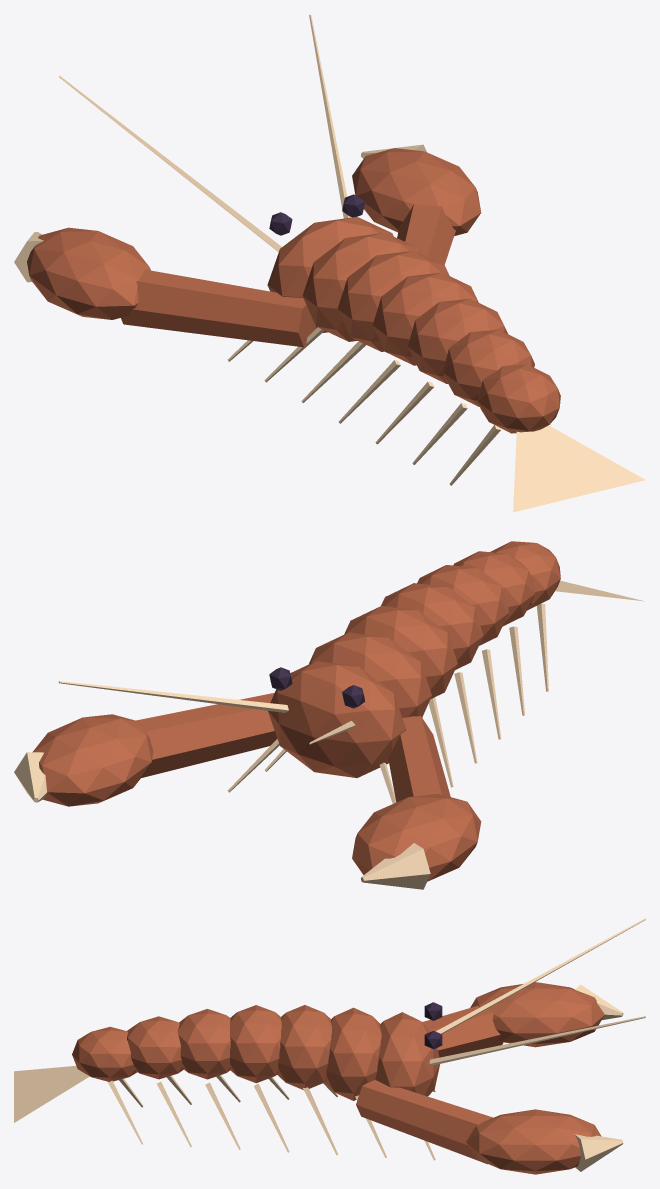
The model's file is Lobster.fbx.
The picture shows the model from 3 angles, top to bottom: view 1: azimuth 30°, elevation 25°; view 2: azimuth 150°, elevation 25°; view 3: azimuth 270°, elevation 25°; orthographic projection. The views are drawn at different scales.
Visible parts, largest first — view 1: ClawArm1, Claw1, Claw-1, Segment1, Segment6, Segment2, Segment3, Segment4, Segment5, Segment0, TailFan-1, TailFan1 (+4 smaller); view 2: Segment0, Claw-1, Claw1, ClawArm-1, Segment1, Segment2, Segment3, ClawArm1, Segment4, Segment5, Segment6, ClawTip1 (+7 smaller); view 3: Claw-1, Claw1, ClawArm-1, Segment1, Segment0, Segment2, Segment3, Segment4, Segment5, Segment6, ClawArm1, TailFan-1 (+6 smaller).
Boxes of the visible parts, x1,y1,x2,y2 form: ClawArm1: (121,269,315,347); Claw1: (27,227,150,319); Claw-1: (352,148,481,235); Segment1: (302,232,420,341); Segment6: (478,364,560,433); Segment2: (337,250,449,351); Segment3: (372,272,478,365); Segment4: (407,298,507,383); Segment5: (443,329,534,406); Segment0: (267,217,393,333); TailFan-1: (535,425,645,495); TailFan1: (513,431,577,512); Segment0: (268,661,406,777); Claw-1: (32,714,153,806); Claw1: (352,794,481,881); ClawArm-1: (136,693,277,777); Segment1: (308,632,431,717); Segment2: (344,606,457,698); Segment3: (381,583,483,669); ClawArm1: (388,716,450,802); Segment4: (417,565,509,645); Segment5: (453,551,534,626); Segment6: (490,541,560,610); ClawTip1: (361,843,430,889); Claw-1: (466,1109,601,1174); Claw1: (470,982,604,1047); ClawArm-1: (356,1080,493,1164); Segment1: (324,1007,381,1100); Segment0: (375,1012,439,1096); Segment2: (277,1005,331,1089); Segment3: (230,1005,281,1083); Segment4: (177,1009,230,1079); Segment5: (127,1016,183,1079); Segment6: (72,1026,137,1081); ClawArm1: (422,1005,503,1057); TailFan-1: (14,1073,89,1122).
Size of the model in its own units: 0.3361 by 0.1514 by 0.5453.
